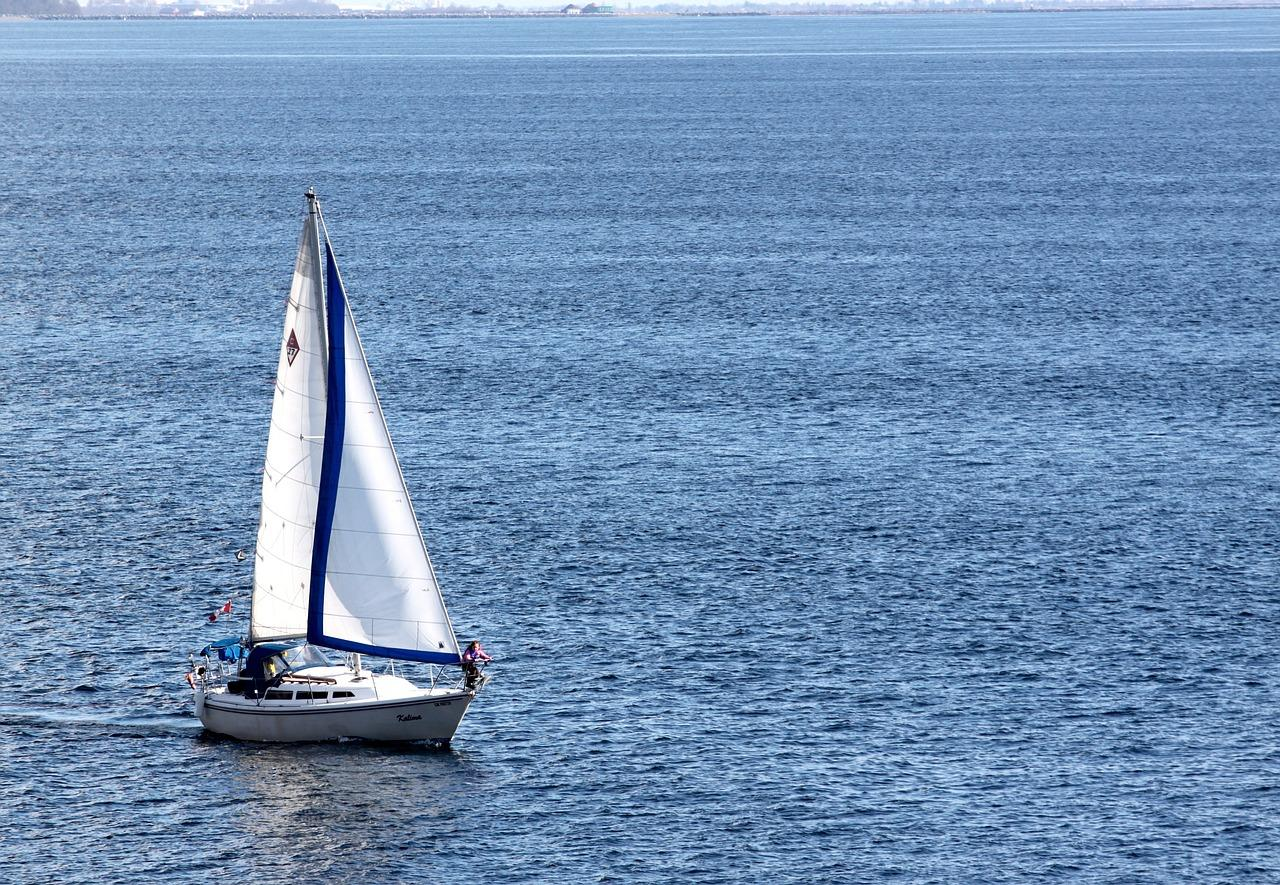Ship: (194, 186, 486, 749)
